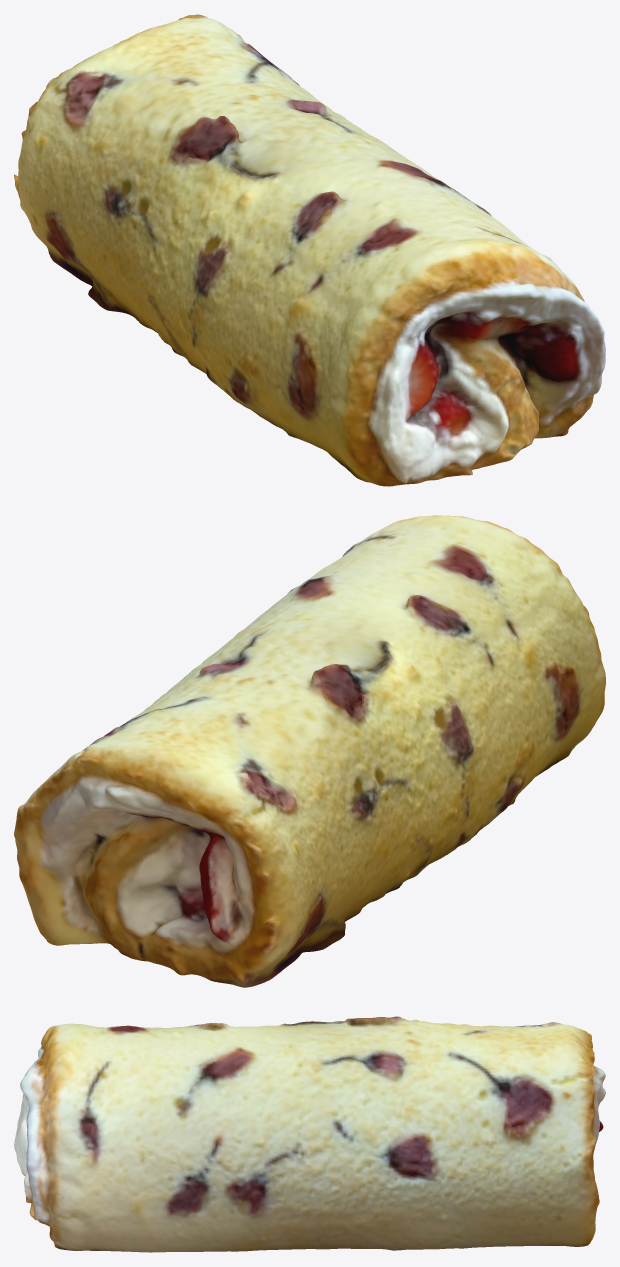
The model's file is day_sanvalentin.glb.
3 renders of one model, top to bottom at view 1: azimuth 30°, elevation 25°; view 2: azimuth 150°, elevation 25°; view 3: azimuth 270°, elevation 25°, orthographic. The views are drawn at different scales.
Parts seen in each view (by area): view 1: Object_2, Object_3, Object_4; view 2: Object_3, Object_2, Object_4; view 3: Object_3, Object_2, Object_4.
Part boxes in pixels (x1=…): Object_2: x1=16, y1=15, x2=596, y2=486; Object_3: x1=14, y1=14, x2=605, y2=486; Object_4: x1=58, y1=18, x2=593, y2=483; Object_3: x1=14, y1=515, x2=605, y2=987; Object_2: x1=14, y1=530, x2=598, y2=987; Object_4: x1=23, y1=517, x2=597, y2=978; Object_3: x1=20, y1=1016, x2=605, y2=1252; Object_2: x1=14, y1=1017, x2=603, y2=1252; Object_4: x1=14, y1=1017, x2=602, y2=1252.
Bounding box in the file's own units: 0.1935 × 0.1396 × 0.4349.
1 material, 1 textured.
